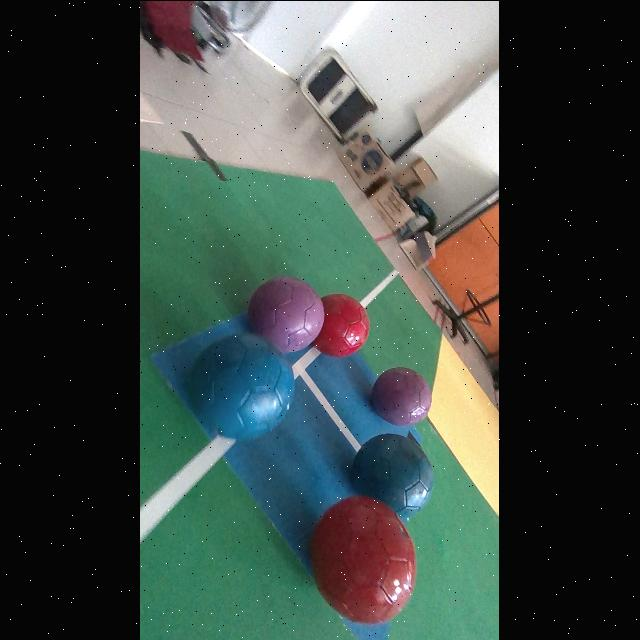B: (188, 331, 296, 439), (353, 434, 435, 517)
P: (249, 276, 325, 351), (371, 366, 432, 426)
R: (312, 495, 418, 623), (314, 293, 371, 357)
